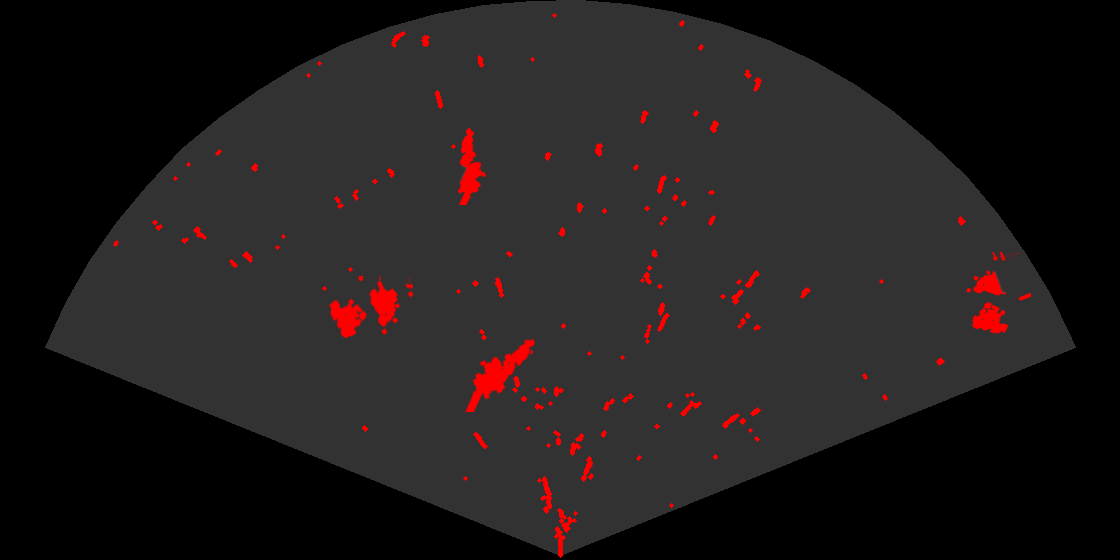cage: (327, 276, 413, 340), (965, 252, 1031, 335)
frogman: (463, 337, 537, 412), (456, 126, 488, 205)
